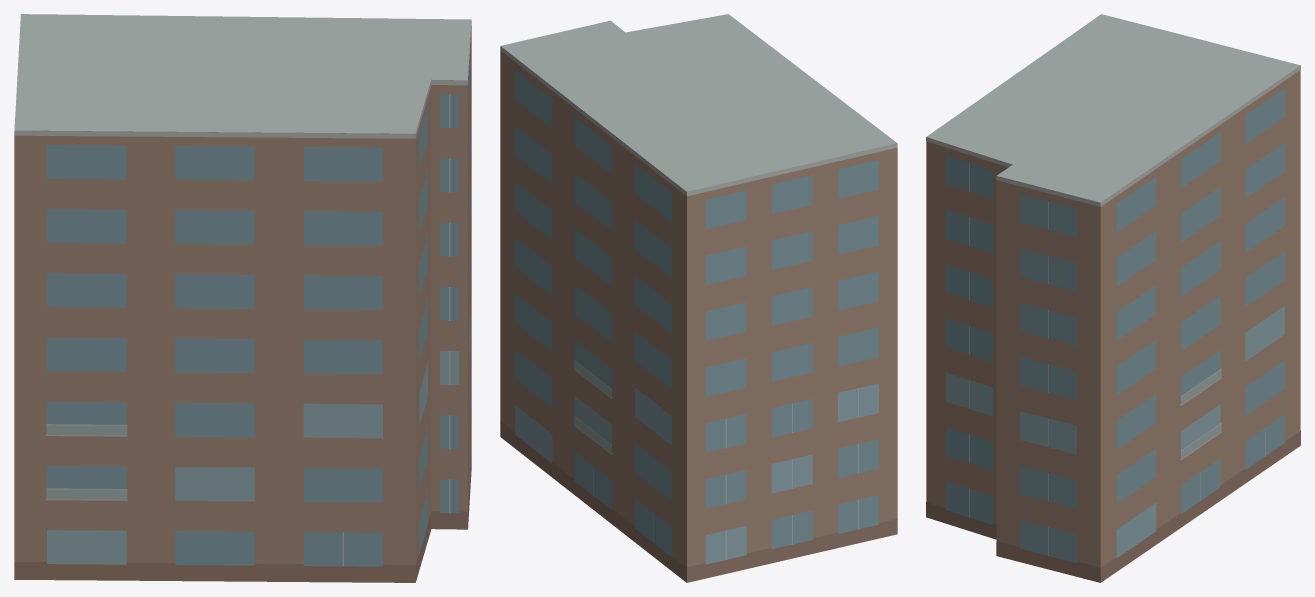
File: survey-upis-33026914.glb
The picture shows the model from 3 angles, left to right: view 1: azimuth 30°, elevation 25°; view 2: azimuth 150°, elevation 25°; view 3: azimuth 270°, elevation 25°; orthographic projection. The views are drawn at different scales.
Visible parts, largest first — view 1: survey-upis-33026914.tmp; view 2: survey-upis-33026914.tmp; view 3: survey-upis-33026914.tmp.
Boxes of the visible parts, x1,y1,x2,y2 form: survey-upis-33026914.tmp: (14,14,471,582); survey-upis-33026914.tmp: (500,14,897,582); survey-upis-33026914.tmp: (926,14,1300,582).
Size of the model in its own units: 22.72 by 21.35 by 19.07.
